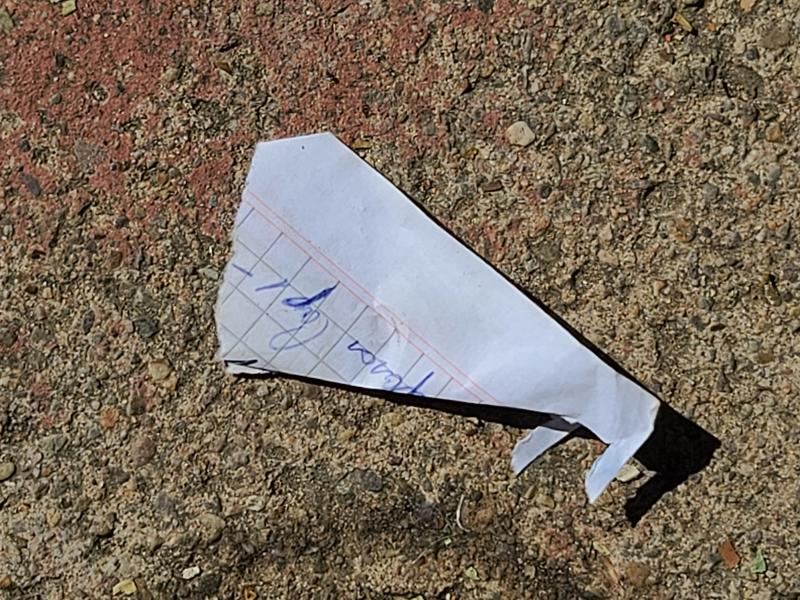papel: (214, 132, 662, 502)
